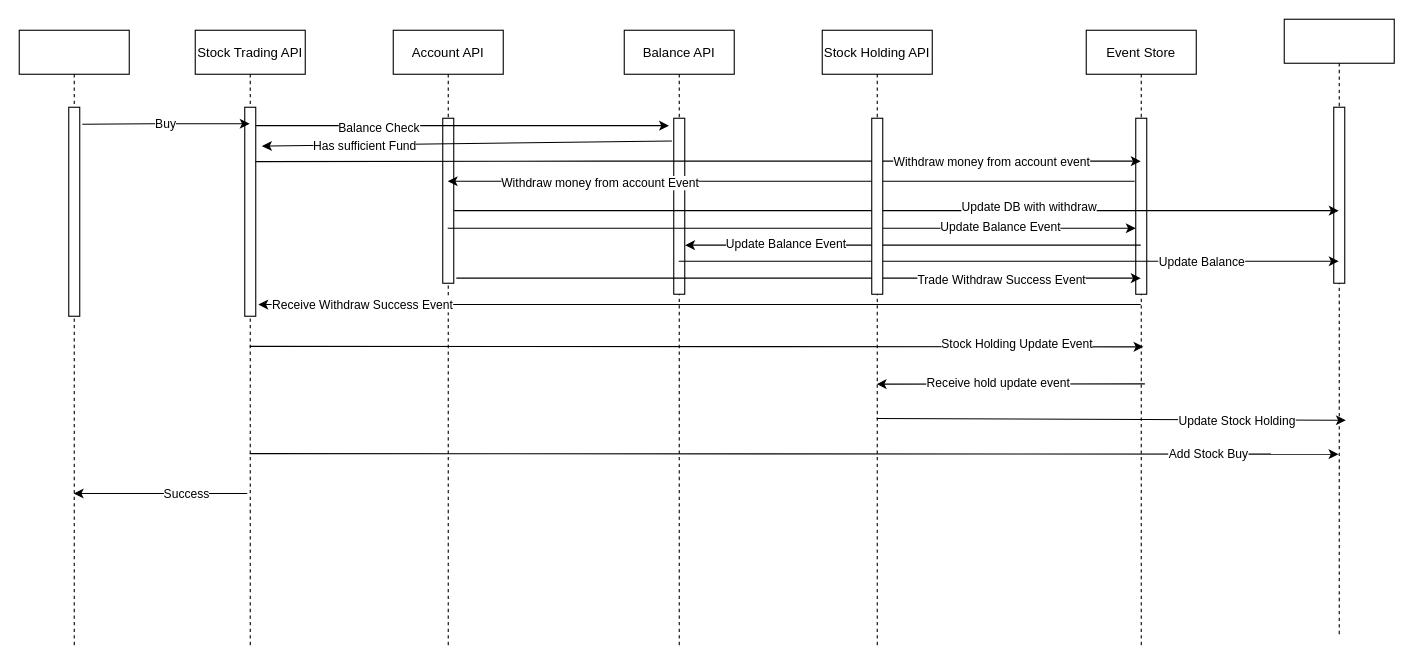
Some shapes in this 1414 by 666 pixel diagram are drawn without their labels. The shapes that lost their labels are listed below. From the top down, each one's box as (x1, y1, x2, y2) in pixels, then its label:
(18, 29, 129, 646): USER
(1283, 18, 1394, 635): DB
